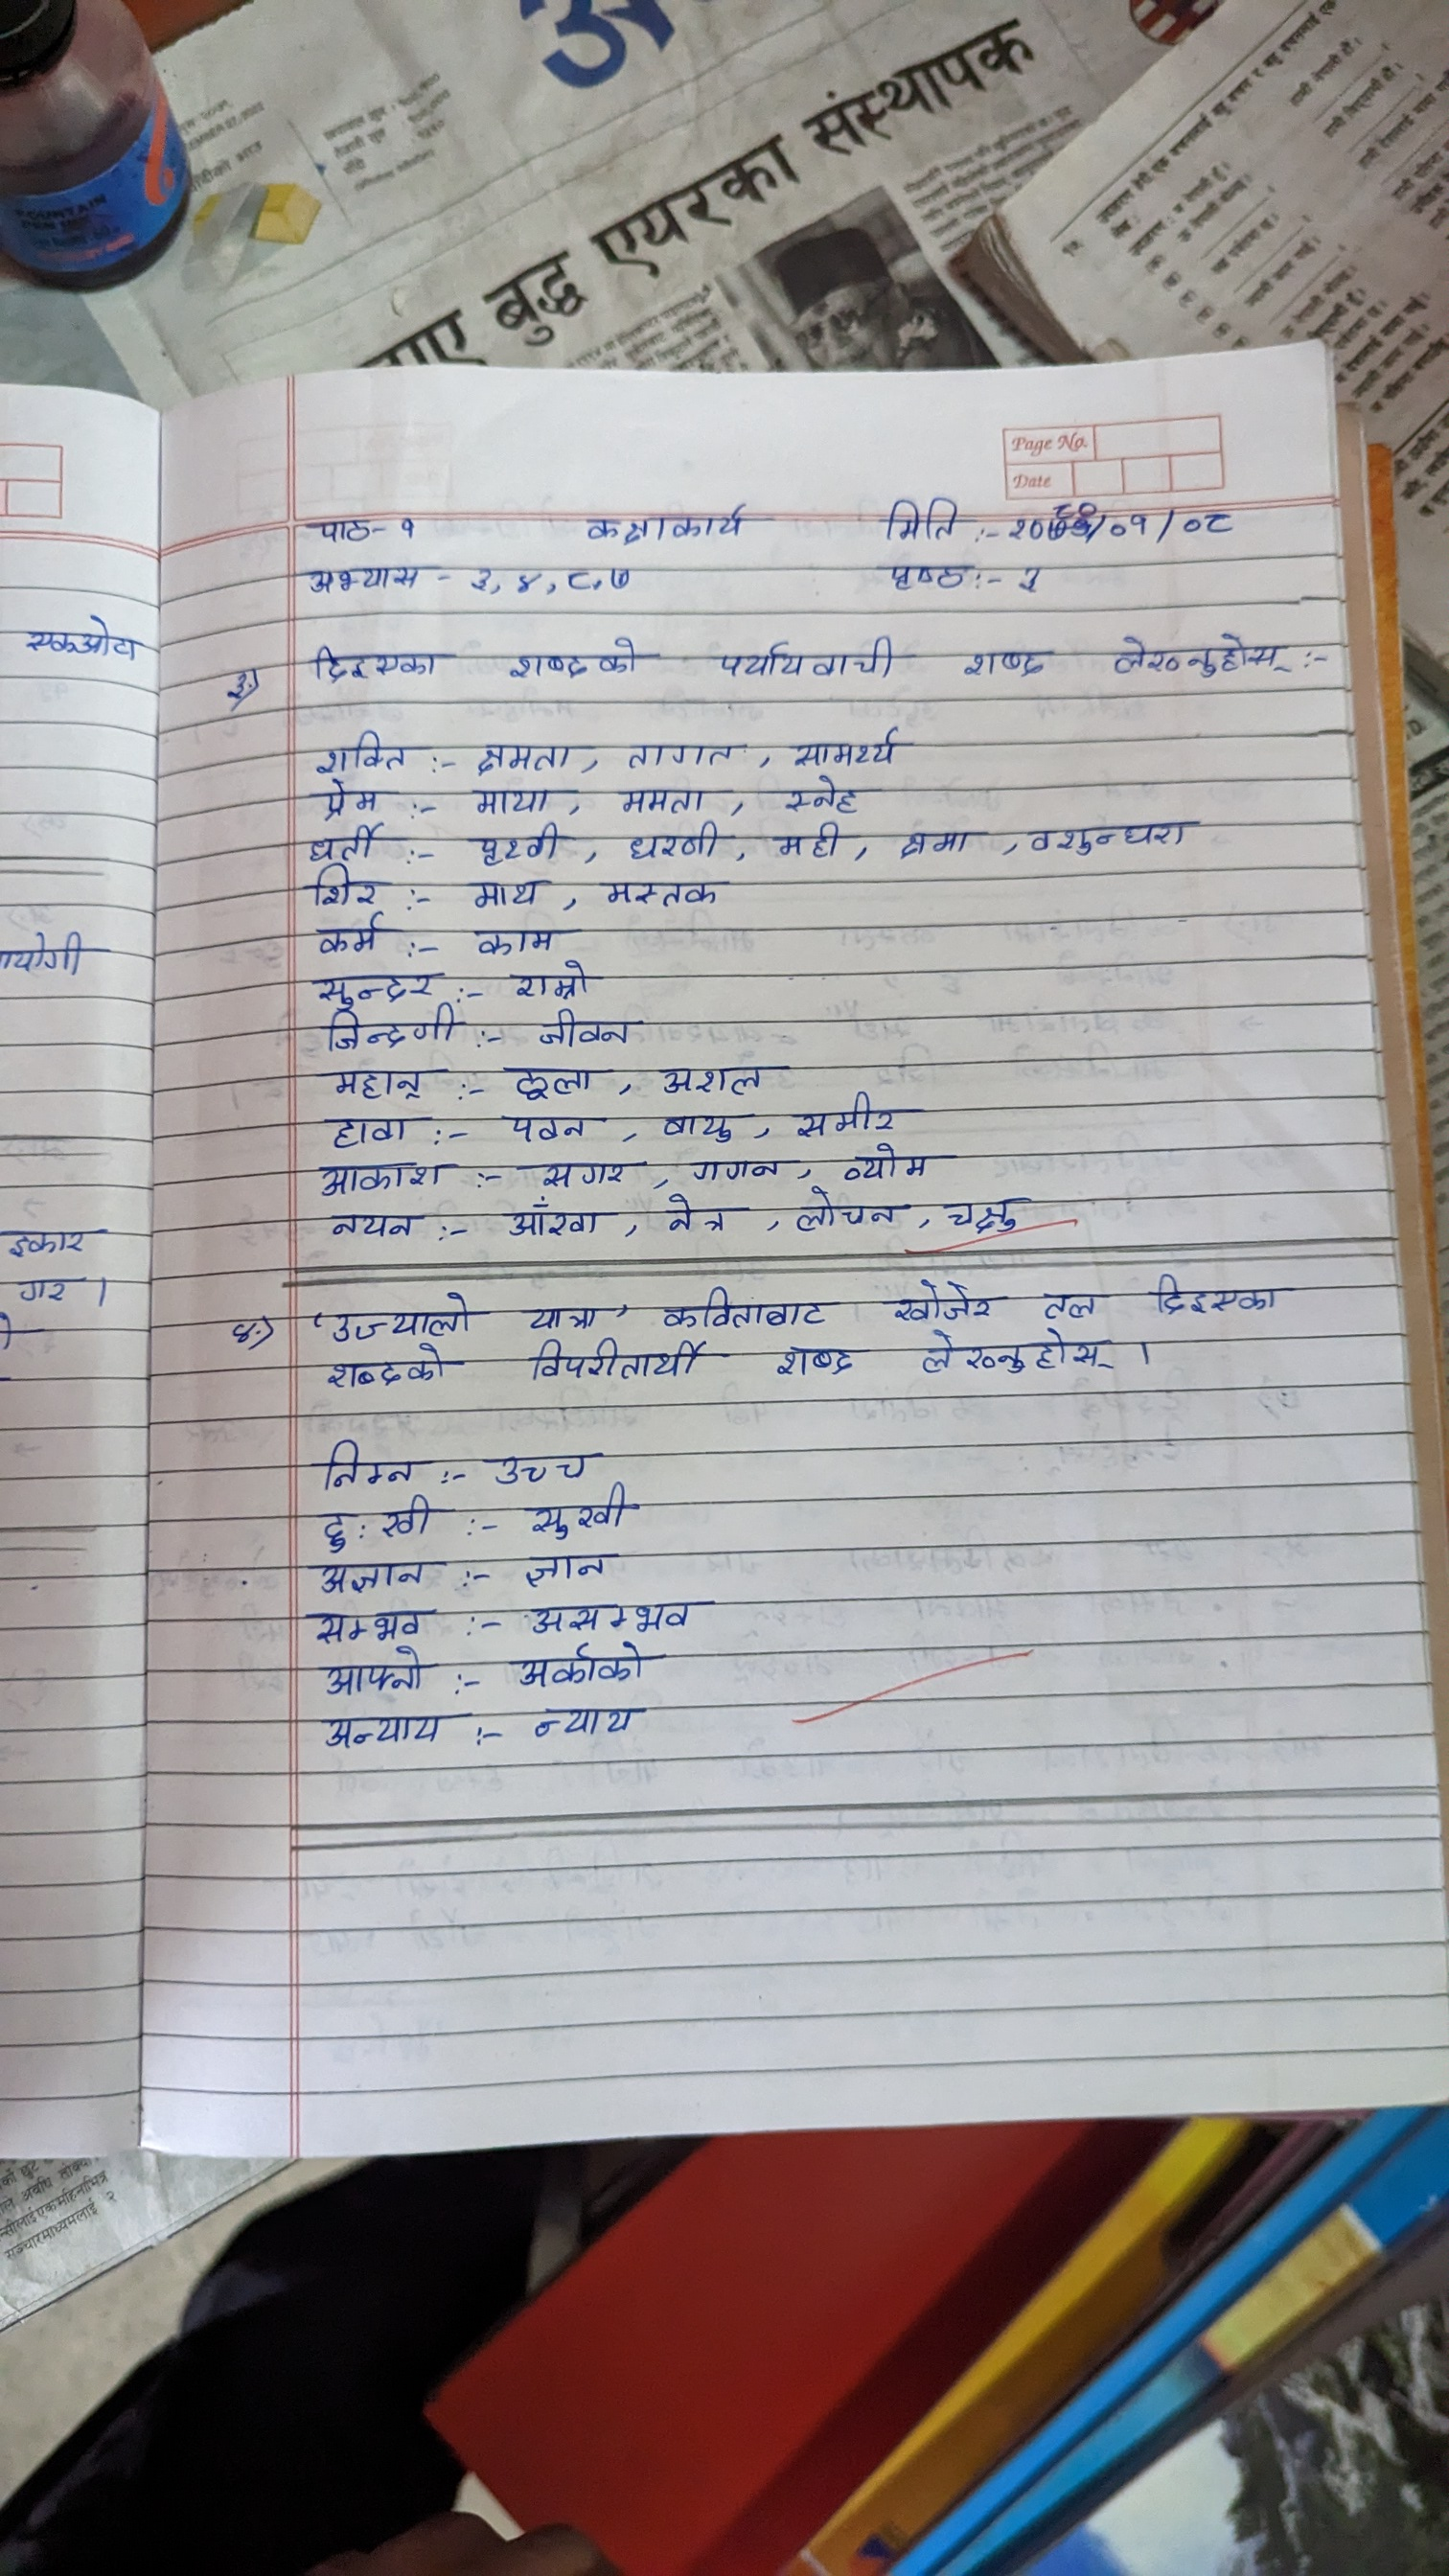text: (571, 487, 757, 548), (1097, 632, 1306, 683), (918, 1330, 1115, 1380), (1019, 814, 1203, 863), (702, 637, 908, 681), (495, 635, 651, 692), (525, 1338, 709, 1385), (513, 1640, 663, 1697), (655, 1284, 832, 1332), (1152, 1270, 1297, 1322), (524, 1598, 702, 1638), (326, 1292, 471, 1341), (306, 1155, 455, 1201), (303, 642, 456, 686), (308, 1711, 462, 1755), (315, 1499, 442, 1550), (525, 1704, 653, 1755), (591, 872, 736, 916), (320, 1345, 455, 1391), (322, 1012, 467, 1054), (522, 1490, 639, 1539), (876, 1277, 1000, 1323), (313, 1649, 432, 1695), (1003, 495, 1099, 552), (789, 1090, 902, 1138), (789, 1191, 901, 1238), (308, 970, 441, 1008), (497, 1198, 609, 1244), (784, 727, 906, 768), (306, 1559, 439, 1596), (306, 727, 409, 775), (533, 1008, 635, 1056), (311, 1440, 416, 1486), (939, 1185, 1030, 1238), (317, 1063, 432, 1104), (299, 865, 398, 911), (322, 1207, 425, 1251), (488, 1445, 594, 1488), (950, 646, 1065, 685), (655, 1060, 770, 1099), (311, 1606, 432, 1644), (623, 823, 727, 865), (469, 738, 577, 778), (1171, 499, 1267, 543), (869, 497, 962, 541), (538, 1154, 642, 1192), (892, 817, 977, 865), (522, 1550, 621, 1591), (465, 824, 559, 867), (764, 1345, 865, 1384), (508, 962, 600, 1005), (619, 738, 741, 770), (770, 821, 853, 867), (467, 920, 563, 959), (303, 566, 433, 594), (832, 1141, 931, 1178), (681, 1152, 793, 1184), (297, 824, 391, 862), (306, 777, 386, 819), (311, 913, 387, 957), (782, 775, 863, 816), (1033, 1283, 1108, 1327), (660, 1196, 736, 1238), (462, 878, 557, 911), (617, 782, 709, 816), (469, 784, 559, 817), (504, 1115, 594, 1148), (297, 513, 382, 548), (658, 1111, 743, 1146), (883, 559, 971, 593), (504, 1065, 593, 1099), (329, 1111, 412, 1146), (524, 1302, 605, 1336), (214, 665, 272, 704), (1106, 510, 1155, 548), (219, 1313, 262, 1352), (1014, 564, 1051, 600), (464, 561, 494, 600), (510, 561, 540, 600), (563, 561, 593, 600), (605, 559, 635, 598), (393, 513, 421, 541)
